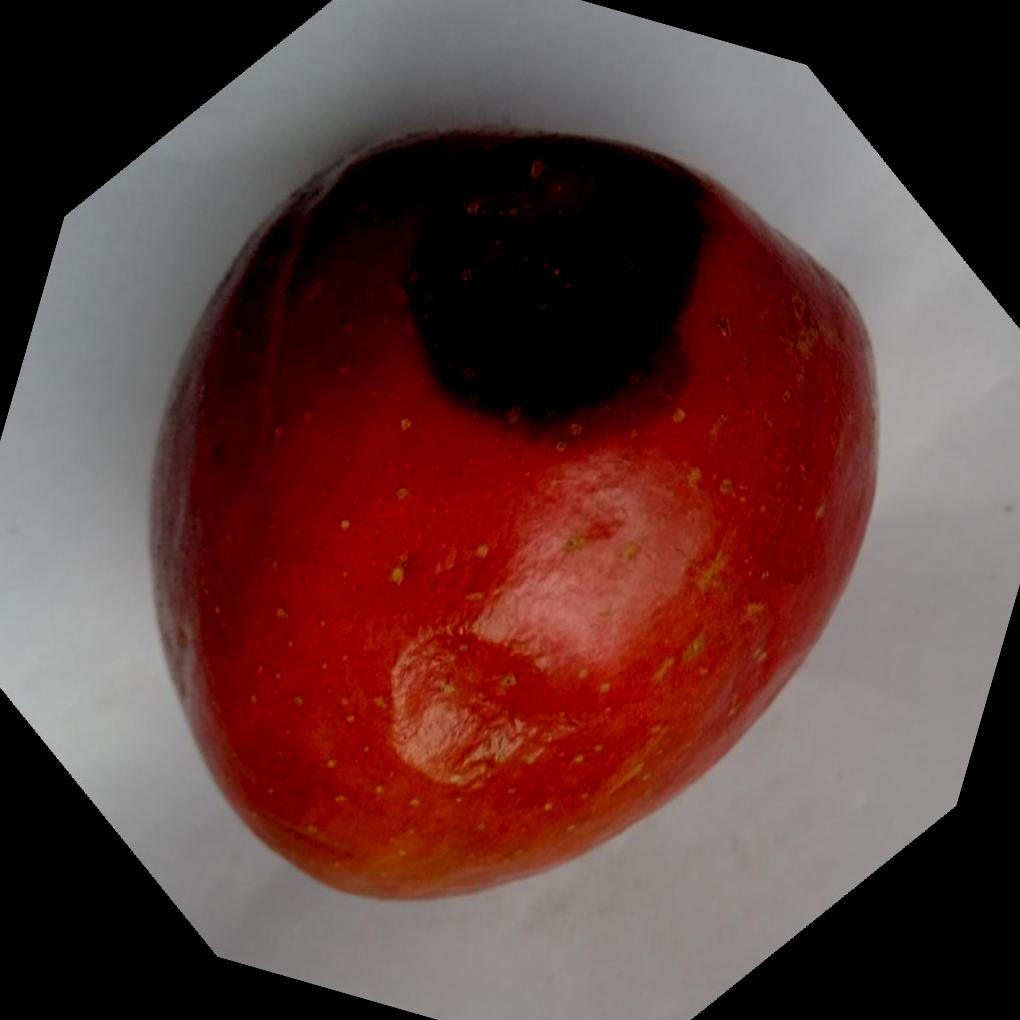FreshOrange: (145, 129, 881, 907)
